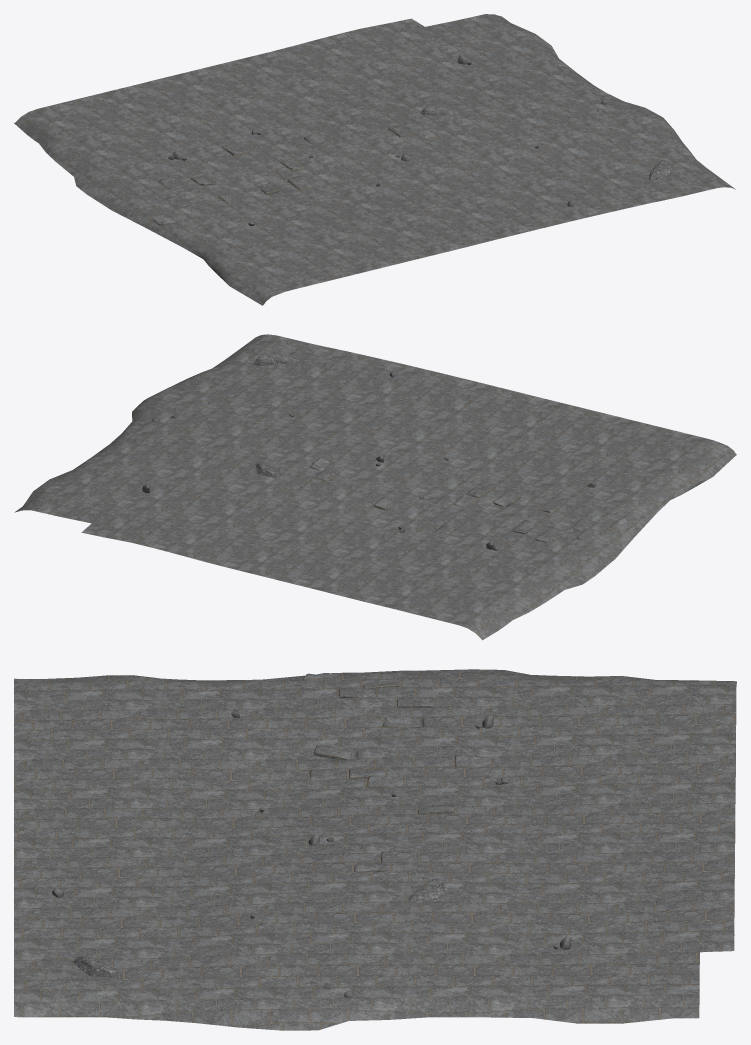
The model's file is ExitGate_Floor.fbx.
3 views of the same model, one above another, from view 1: azimuth 30°, elevation 25°; view 2: azimuth 150°, elevation 25°; view 3: azimuth 270°, elevation 25° (orthographic). The views are drawn at different scales.
Visible parts, largest first — view 1: SM_COM_ExitGate_Floor_02.mo; view 2: SM_COM_ExitGate_Floor_02.mo; view 3: SM_COM_ExitGate_Floor_02.mo.
Part boxes in pixels (x1,y1,x2,y2): SM_COM_ExitGate_Floor_02.mo: [14, 14, 735, 305]; SM_COM_ExitGate_Floor_02.mo: [14, 334, 736, 640]; SM_COM_ExitGate_Floor_02.mo: [14, 669, 736, 1030].
Size of the model in its own units: 1513 by 46.38 by 1280.
